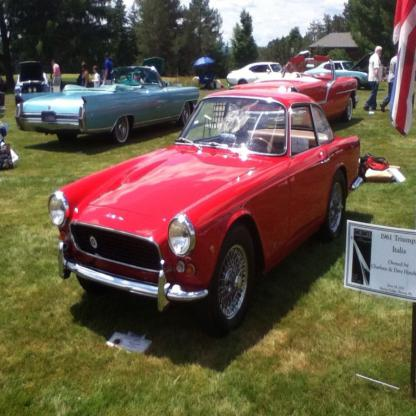Car: (48, 88, 364, 334), (15, 66, 200, 144), (229, 69, 359, 122), (303, 52, 375, 89), (15, 61, 51, 106), (226, 61, 292, 84)
